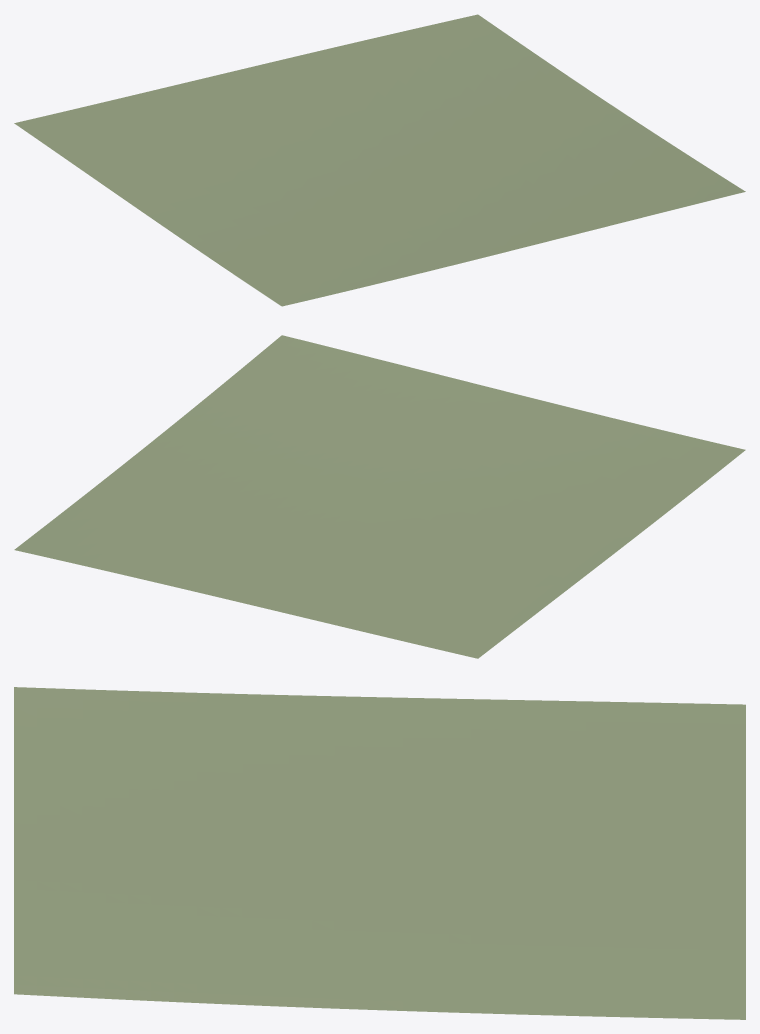
Rendered from expanse-3-8.glb.
3 views of the same model, one above another, from view 1: azimuth 30°, elevation 25°; view 2: azimuth 150°, elevation 25°; view 3: azimuth 270°, elevation 25° (orthographic). The views are drawn at different scales.
Visible parts, largest first — view 1: expanse-3-8; view 2: expanse-3-8; view 3: expanse-3-8.
Boxes of the visible parts, left/top/right/bottom form: expanse-3-8: left=14, top=14, right=745, bottom=306; expanse-3-8: left=14, top=335, right=745, bottom=658; expanse-3-8: left=14, top=687, right=745, bottom=1019.
Size of the model in its own units: 256 by 9.89 by 256.
